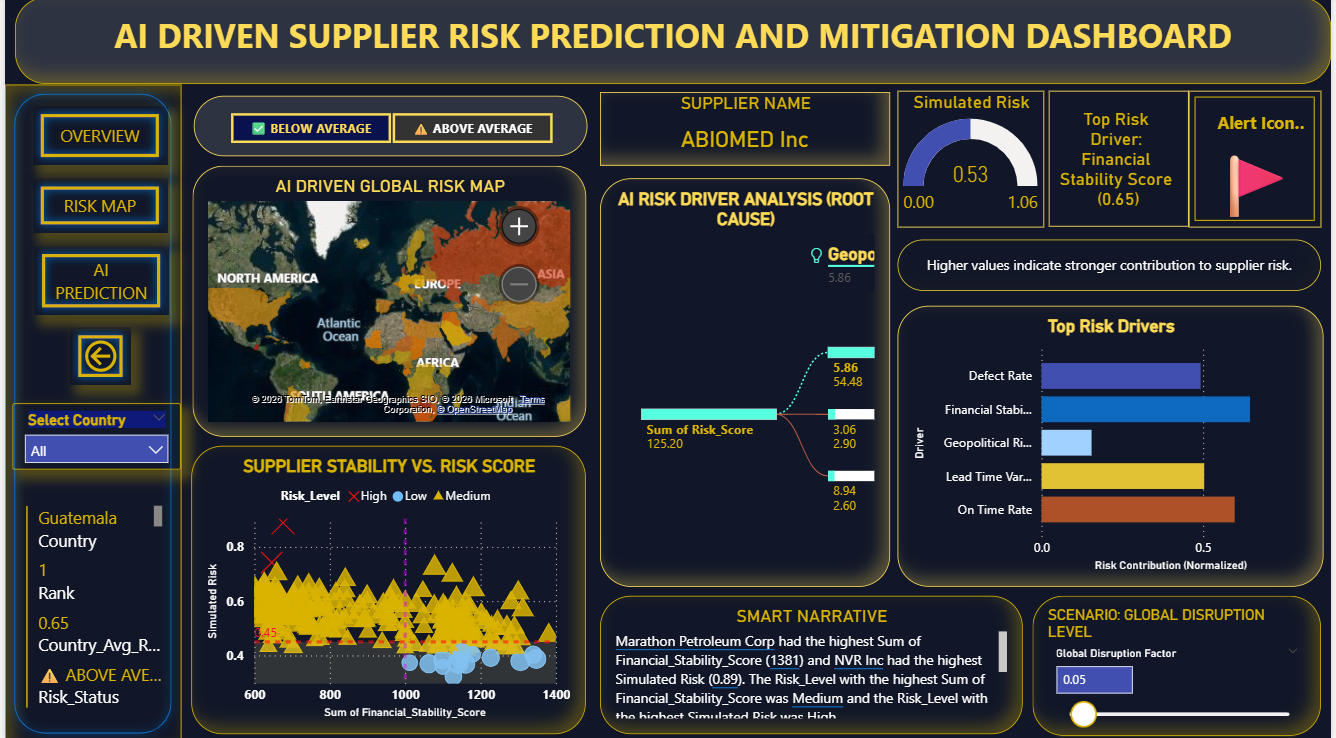

This screenshot's page, from the dashboard's own definition file:
{"tool":"powerbi","page":{"name":"Page 1","canvas":[1280,720],"ordinal":0},"visuals":[{"type":"textbox","box":[9.6,0,1270.7,83.7],"z":0},{"type":"gauge","fields":{"Y":["final_supplier_risk_data.Simulated Risk"]},"box":[861.9,90.5,141.7,132.1],"z":1000},{"type":"cardVisual","fields":{"Data":["final_supplier_risk_data.Alert Icon"]},"box":[1142.3,91,128.2,132.1],"z":2000},{"type":"filledMap","title":"AI DRIVEN GLOBAL RISK MAP","fields":{"Category":["country_risk_analysis.Country"]},"box":[181,162.9,380,261.8],"z":3000},{"type":"slicer","fields":{"Values":["country_risk_analysis.Risk_Status"]},"box":[181.7,95,380,58.3],"z":4000},{"type":"decompositionTreeVisual","title":"AI RISK DRIVER ANALYSIS (ROOT CAUSE)","fields":{"Analyze":["Sum(final_supplier_risk_data.Risk_Score)"],"ExplainBy":["final_supplier_risk_data.Geopolitical_Risk_Index","final_supplier_risk_data.OnTime_Rate","final_supplier_risk_data.Financial_Stability_Score","final_supplier_risk_data.LeadTime_Variability","final_supplier_risk_data.Defect_Rate"]},"box":[574.3,174.9,279.9,394.5],"z":5000},{"type":"scatterChart","title":"SUPPLIER STABILITY VS. RISK SCORE","fields":{"Category":["final_supplier_risk_data.Supplier_ID","final_supplier_risk_data.Supplier_Name"],"X":["Sum(final_supplier_risk_data.Financial_Stability_Score)"],"Series":["final_supplier_risk_data.Risk_Level"],"Size":["Sum(final_supplier_risk_data.Defect_Rate)"],"Y":["final_supplier_risk_data.Simulated Risk"]},"box":[179.5,433.3,380.8,278.2],"z":6000},{"type":"slicer","title":"SCENARIO: GLOBAL DISRUPTION LEVEL","fields":{"Values":["Global Disruption Factor.Global Disruption Factor"]},"box":[991.2,577.5,278.8,135],"z":7000},{"type":"shape","box":[0,84.3,170,635.7],"z":8000},{"type":"actionButton","box":[26.2,105,130,57.5],"z":9000},{"type":"actionButton","box":[26.2,175,130,52.5],"z":10000},{"type":"actionButton","box":[27.5,240,130,67.5],"z":11000},{"type":"textbox","title":"SMART NARRATIVE","box":[574.4,578.2,407.7,133.3],"z":12000},{"type":"actionButton","box":[62.5,318.8,58.8,56.2],"z":13000},{"type":"multiRowCard","fields":{"Values":["country_risk_analysis.Country","country_risk_analysis.Rank","country_risk_analysis.Country_Avg_Risk","country_risk_analysis.Risk_Status"]},"box":[16.2,486.2,141.2,207.5],"z":14000},{"type":"slicer","fields":{"Values":["country_risk_analysis.Country"]},"box":[7.5,392.5,162.5,63.8],"z":15000},{"type":"clusteredBarChart","title":"Top Risk Drivers","fields":{"Category":["Risk_Drivers.Driver"],"Y":["Global Disruption Factor.Driver Value Normalized Fixed"]},"box":[861.4,298,411.4,271.4],"z":16000},{"type":"card","fields":{"Values":["Global Disruption Factor.Top Driver Full"]},"box":[1007.4,90.5,135.1,131.5],"z":17000},{"type":"textbox","box":[861.4,234,409,49.5],"z":18000},{"type":"card","title":"SUPPLIER NAME","fields":{"Values":["Min(final_supplier_risk_data.Supplier_Name)"]},"box":[573.8,91.2,280,71.2],"z":20000}]}

Visuals, with their boxes in screenshot pixels (x1, y1, x2, y2), scaled from the page's 1280x720 canvas onto the 1336x738 screenshot:
textbox: [10,0,1335,86]
gauge - final_supplier_risk_data.Simulated Risk: [900,93,1048,228]
cardVisual - final_supplier_risk_data.Alert Icon: [1192,93,1326,229]
"AI DRIVEN GLOBAL RISK MAP" filledMap: [189,167,586,435]
slicer - country_risk_analysis.Risk_Status: [190,97,586,157]
"AI RISK DRIVER ANALYSIS (ROOT CAUSE)" decompositionTreeVisual: [599,179,892,584]
"SUPPLIER STABILITY VS. RISK SCORE" scatterChart: [187,444,585,729]
"SCENARIO: GLOBAL DISRUPTION LEVEL" slicer: [1035,592,1326,730]
shape: [0,86,177,737]
actionButton: [27,108,163,167]
actionButton: [27,179,163,233]
actionButton: [29,246,164,315]
"SMART NARRATIVE" textbox: [600,593,1025,729]
actionButton: [65,327,127,384]
multiRowCard - country_risk_analysis.Country x country_risk_analysis.Rank: [17,498,164,711]
slicer - country_risk_analysis.Country: [8,402,177,468]
"Top Risk Drivers" clusteredBarChart: [899,305,1328,584]
card - Global Disruption Factor.Top Driver Full: [1051,93,1192,228]
textbox: [899,240,1326,291]
"SUPPLIER NAME" card: [599,93,891,166]
